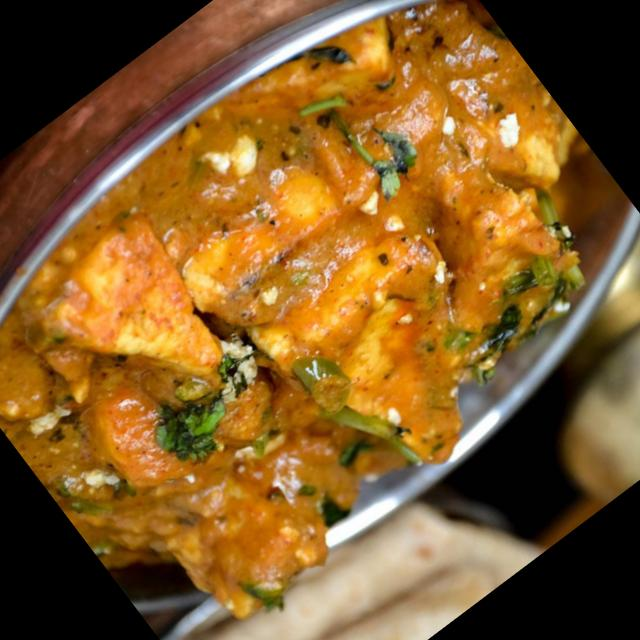roti: (196, 507, 494, 640)
